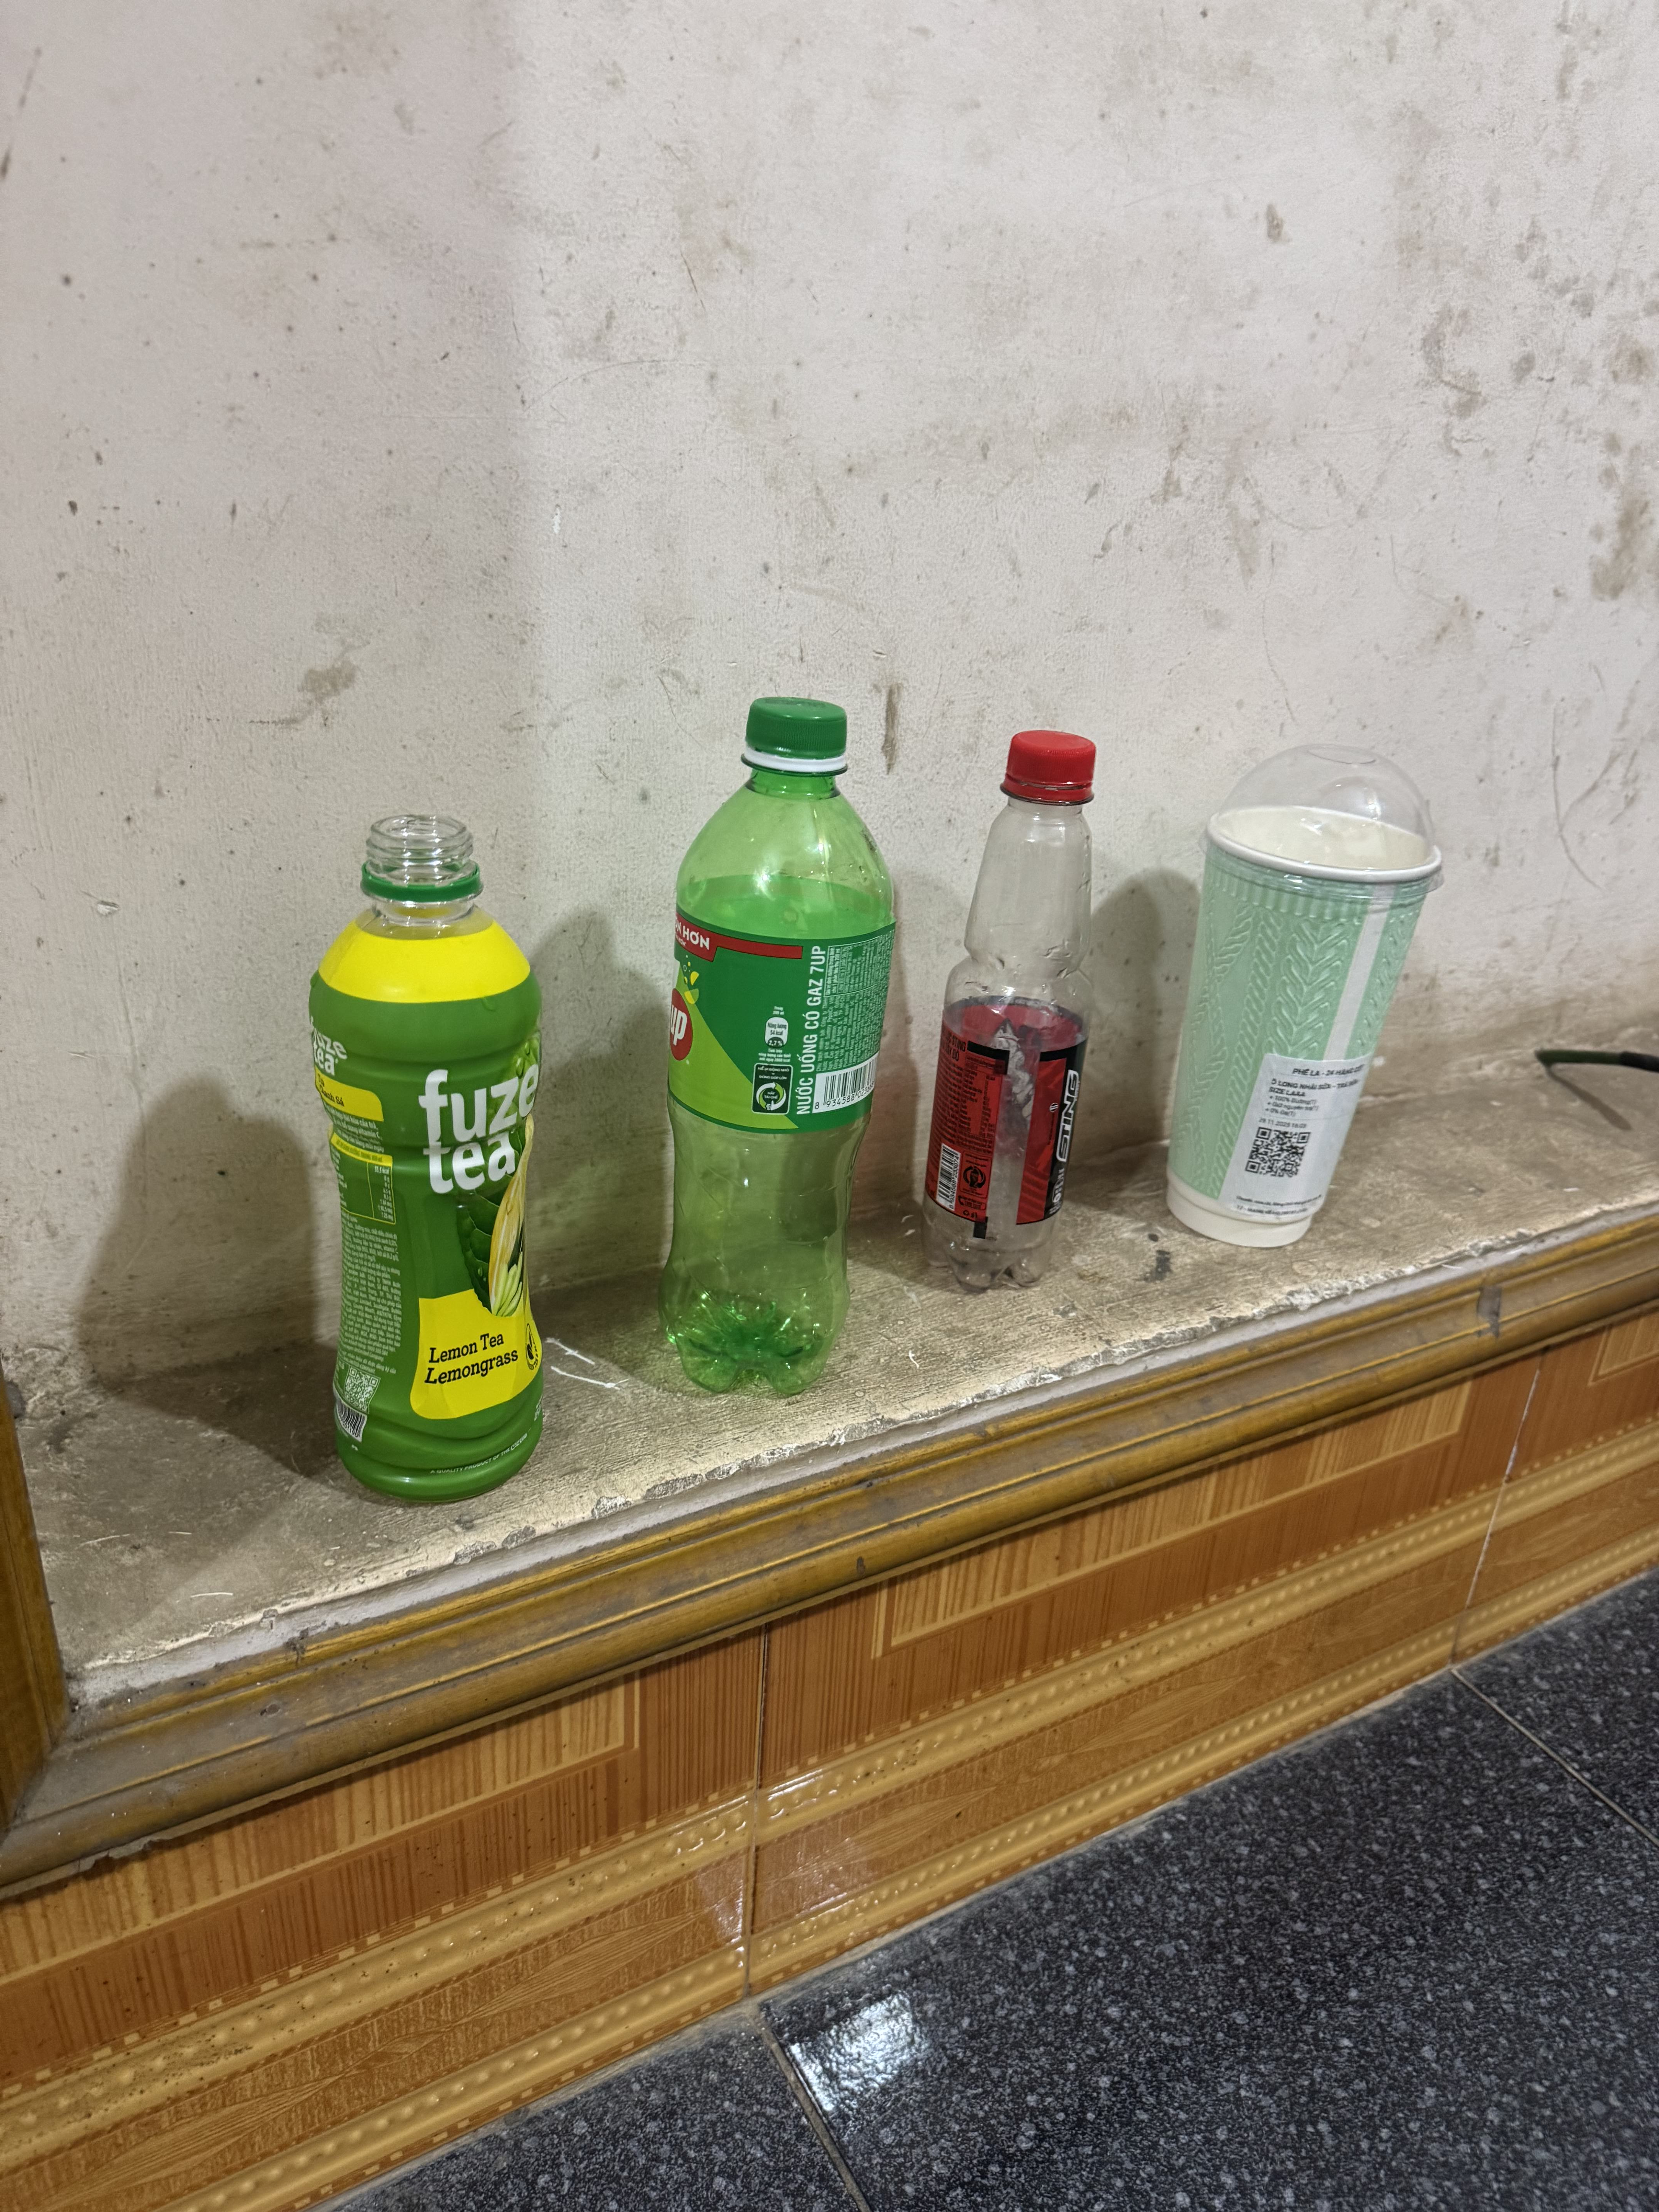2: (1141, 716, 1466, 1275)
bottle: (268, 782, 573, 1543), (617, 671, 918, 1425), (887, 714, 1136, 1325)
